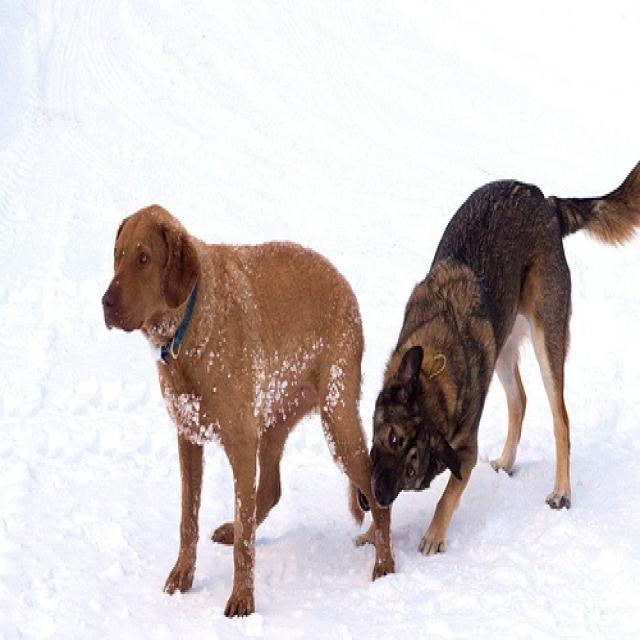dog: (101, 202, 394, 619), (360, 158, 638, 554)
